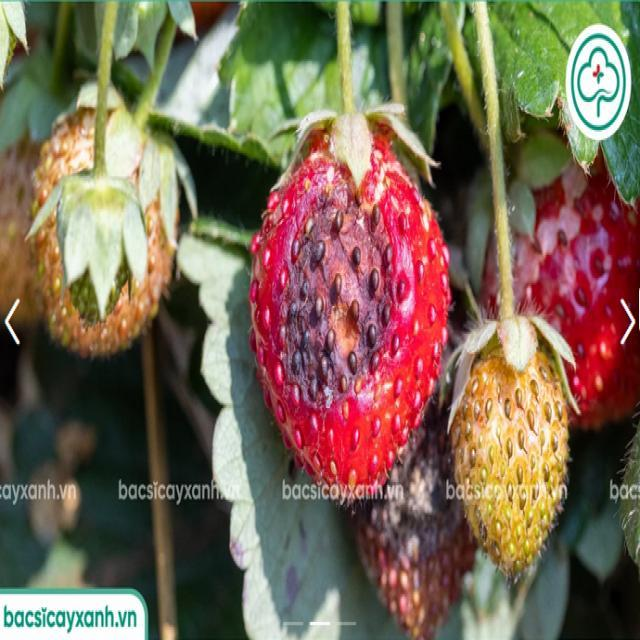Fruta sana: (503, 130, 640, 436)
Mancha negra Antracnosis: (238, 140, 449, 493), (352, 377, 480, 626)
Podredumbre de cuero: (42, 92, 180, 360)
